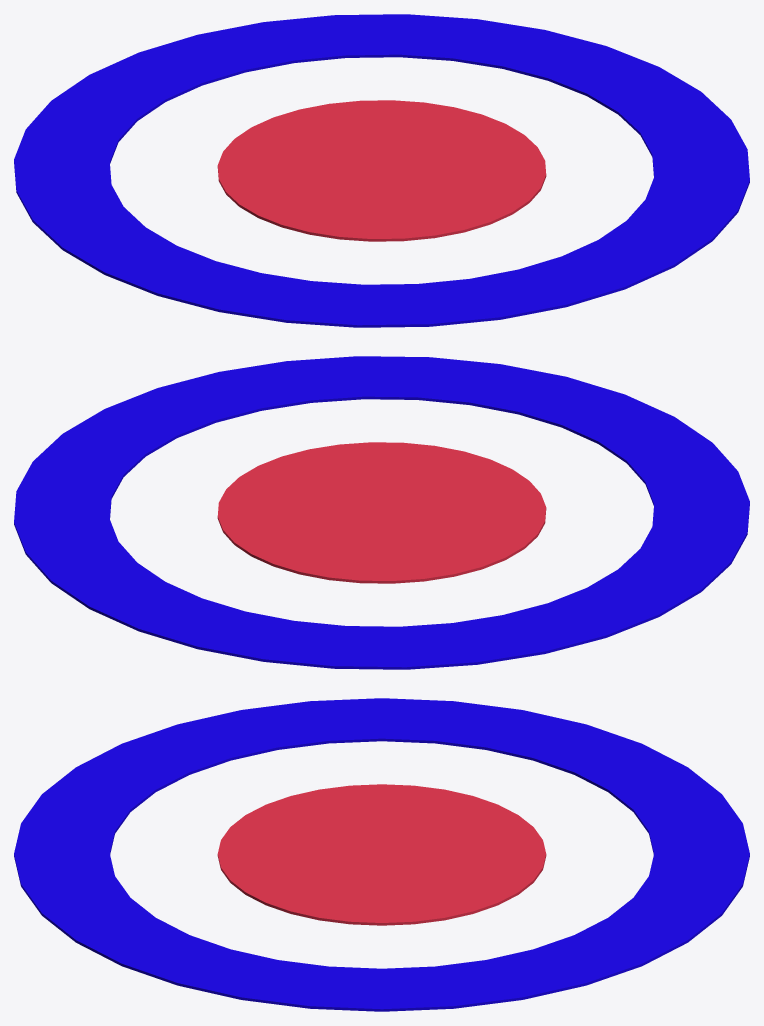
File: Home01.glb
3 renders of one model, top to bottom at view 1: azimuth 30°, elevation 25°; view 2: azimuth 150°, elevation 25°; view 3: azimuth 270°, elevation 25°, orthographic.
Parts seen in each view (by area): view 1: Home; view 2: Home; view 3: Home.
Boxes of the visible parts, x1,y1,x2,y2 form: Home: [14, 14, 749, 327]; Home: [14, 356, 749, 669]; Home: [14, 698, 749, 1011].
Size of the model in its own units: 2 by 0.00776 by 2.
Materials: 1 (1 with a texture image).
